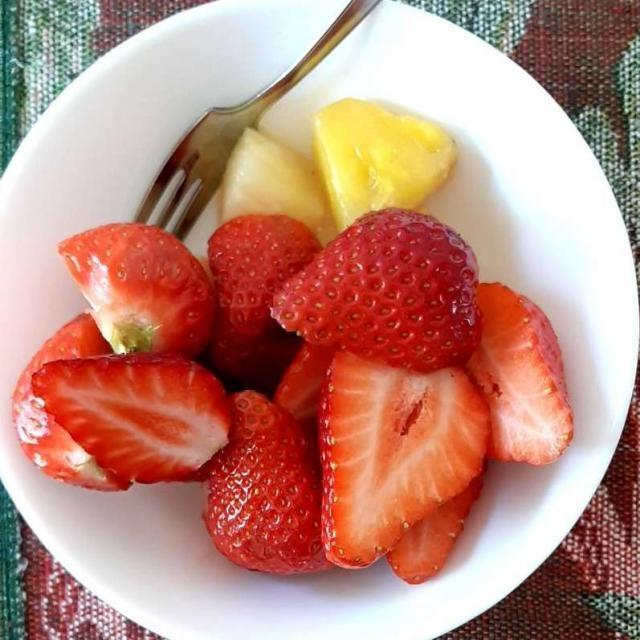pineapple: (231, 101, 451, 241)
strawberries: (15, 213, 575, 577)
